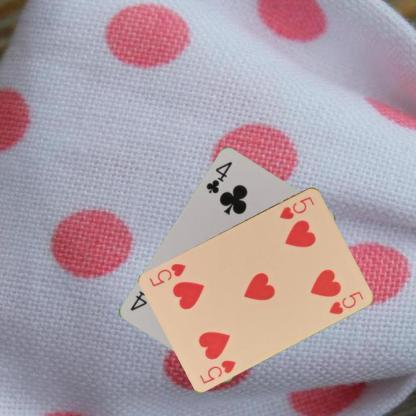4c: (203, 159, 234, 196)
5h: (197, 356, 238, 385), (276, 194, 316, 221)
